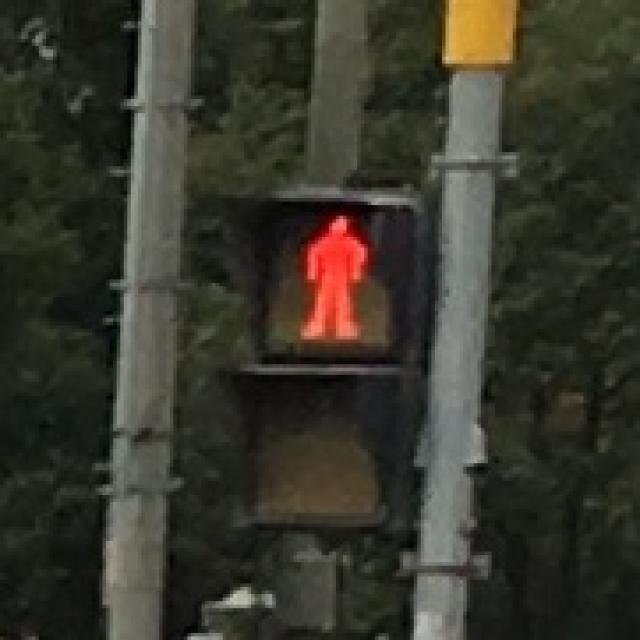red-crossing: (266, 198, 386, 350)
